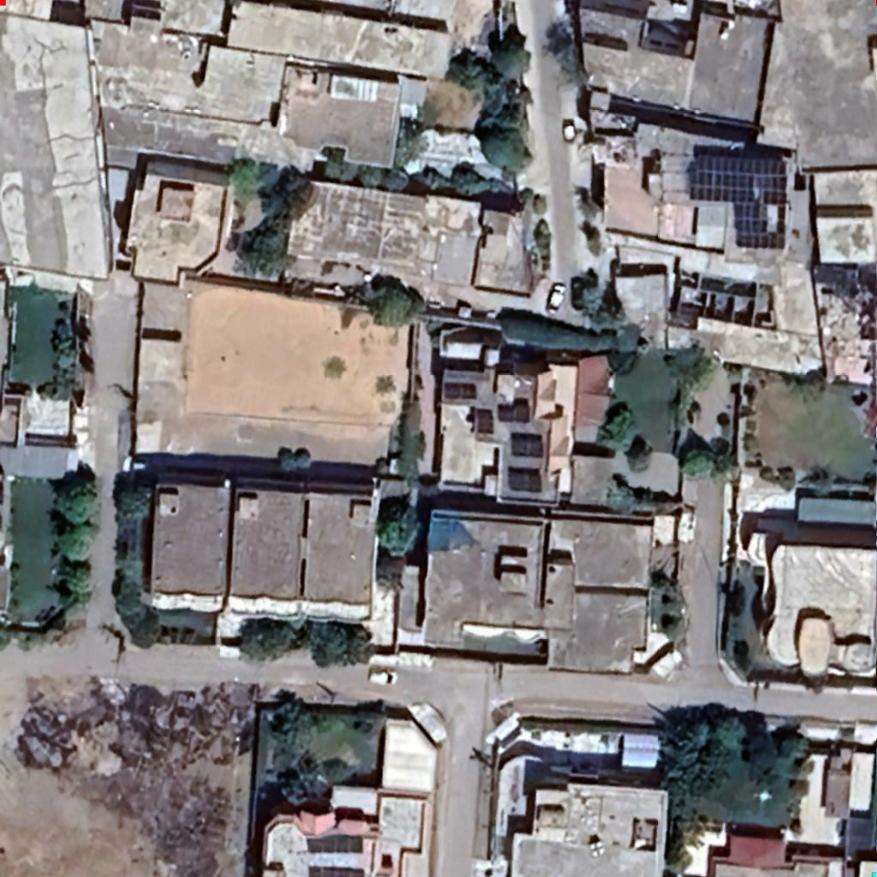Solarpanel: (686, 143, 794, 255), (301, 829, 372, 855), (504, 459, 548, 495), (437, 376, 482, 404), (496, 395, 534, 426), (301, 859, 372, 875), (509, 427, 545, 456), (469, 405, 495, 436)
